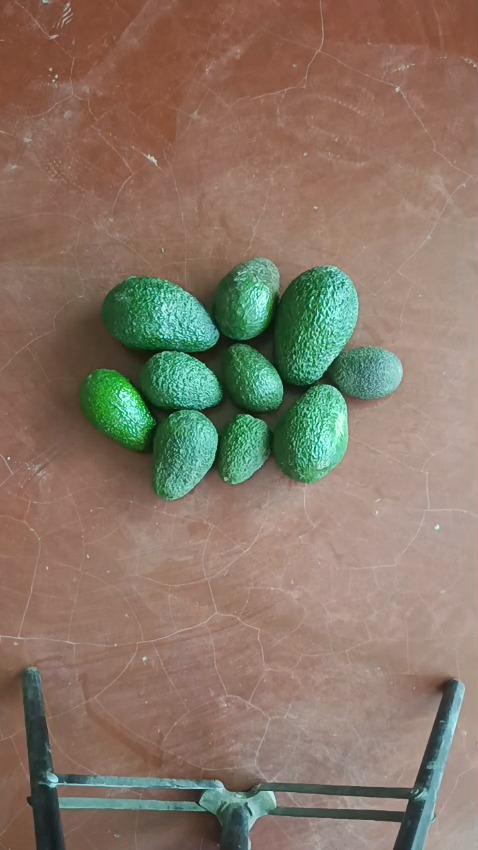Primera: (273, 265, 360, 386), (101, 276, 219, 353), (271, 384, 349, 483), (137, 350, 223, 412)
Segunda: (78, 368, 157, 452), (150, 409, 219, 499), (212, 257, 281, 340)
Tercera: (220, 343, 284, 412), (327, 346, 404, 400), (217, 413, 272, 485)
